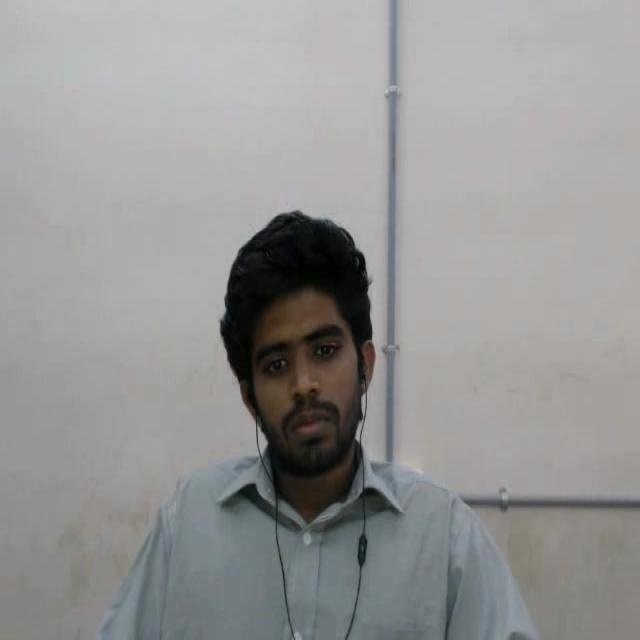Engaged: (210, 192, 404, 501)
